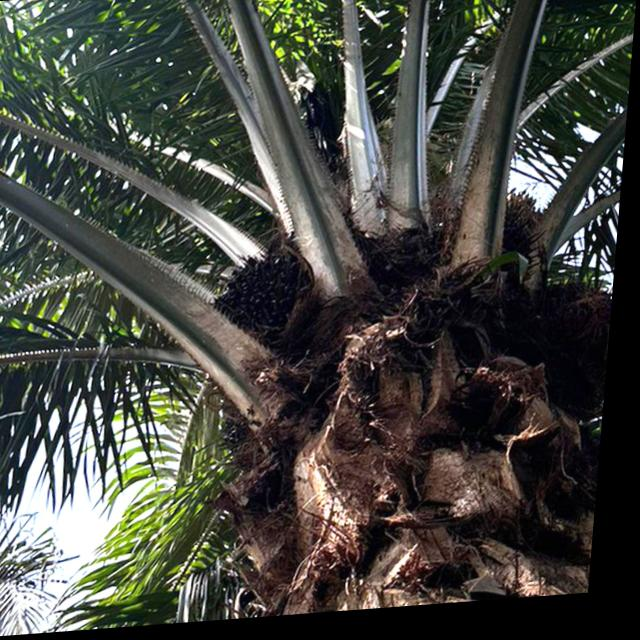unripe: (345, 205, 563, 326), (198, 236, 323, 353)
